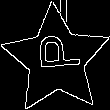P_W: (30, 39, 82, 80)
